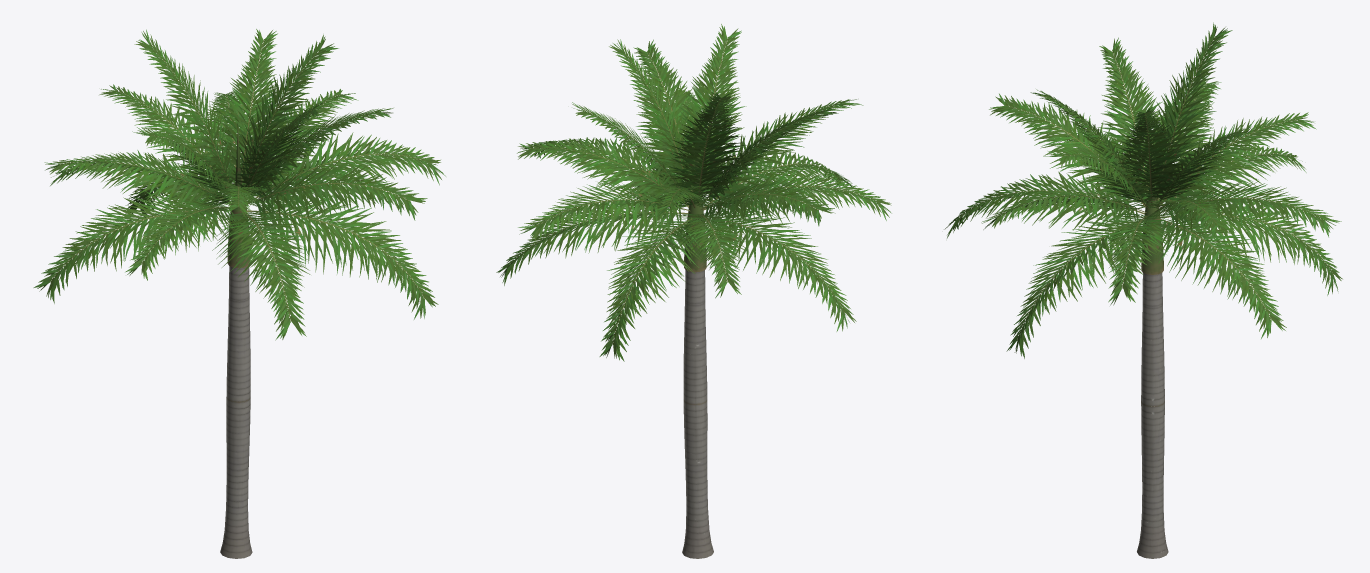
File: royal_palm_a.glb
The picture shows the model from 3 angles, left to right: view 1: azimuth 30°, elevation 25°; view 2: azimuth 150°, elevation 25°; view 3: azimuth 270°, elevation 25°; orthographic projection.
Visible parts, largest first — view 1: lod0; view 2: lod0; view 3: lod0.
Boxes of the visible parts, <box> form: lod0: <box>33,29,445,558</box>; lod0: <box>496,24,891,558</box>; lod0: <box>944,22,1342,558</box>.
Size of what is drawn, in the model's own units: 7.9 by 9.98 by 7.71.
Materials: 2 (2 with a texture image).
